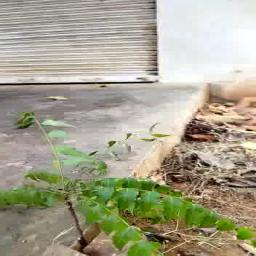Azadiractha Indica: (2, 116, 231, 255)
